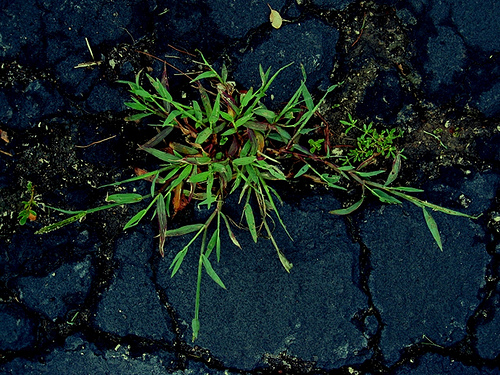crabgrass: (111, 50, 411, 277)
